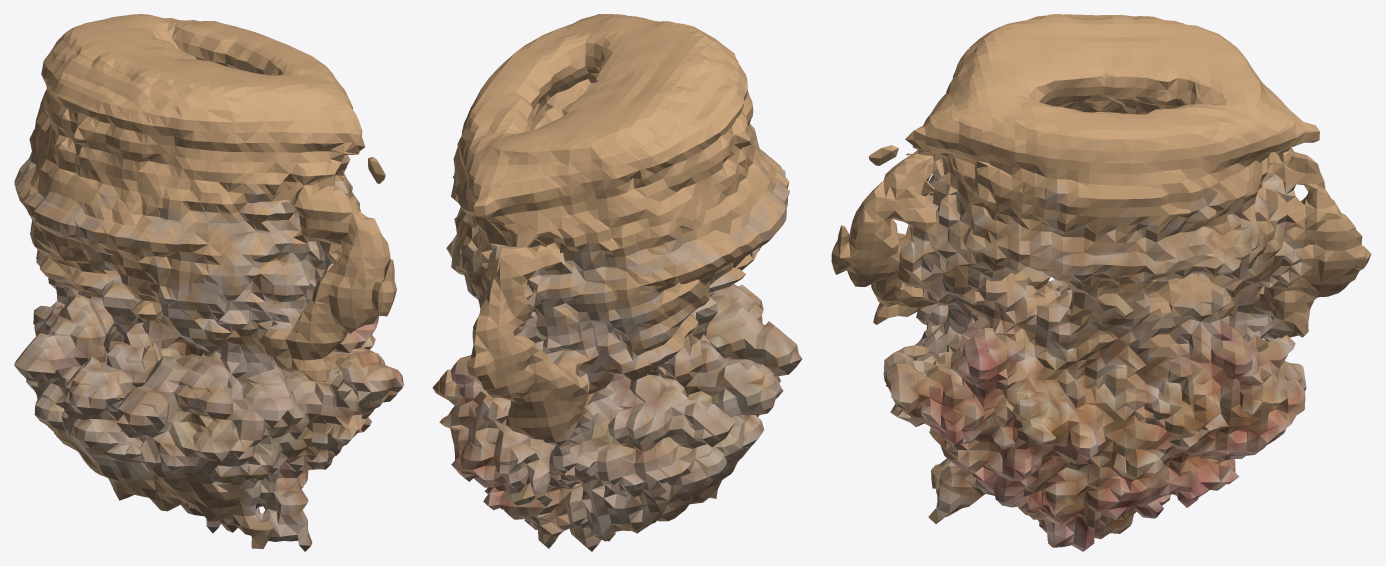
Rendered from lantern_monarch.glb.
3 views of the same model, side by side, from view 1: azimuth 30°, elevation 25°; view 2: azimuth 150°, elevation 25°; view 3: azimuth 270°, elevation 25° (orthographic).
Visible parts, largest first — view 1: world; view 2: world; view 3: world.
Boxes of the visible parts, x1,y1,x2,y2 form: world: (14,14,403,551); world: (432,14,802,551); world: (831,14,1371,551).
Bounding box in the file's own units: 10.8 × 16 × 16.01.
